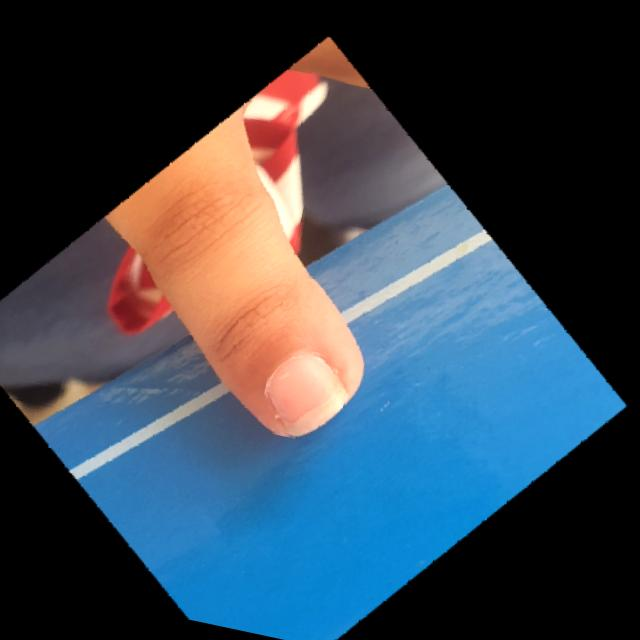Nail: (267, 355, 346, 435)
